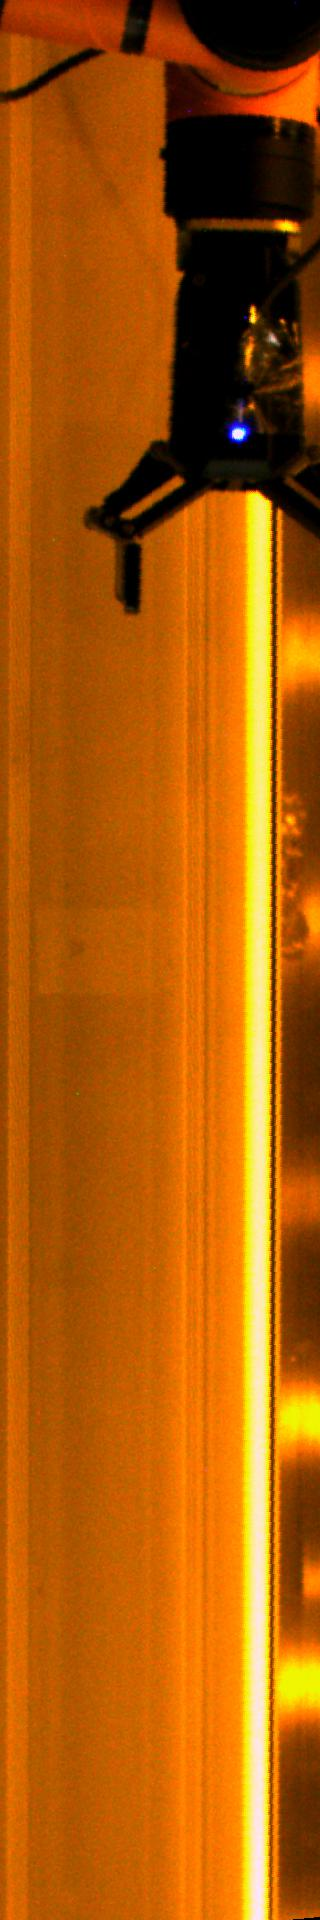keyPoint_1: (224, 419, 254, 449)
